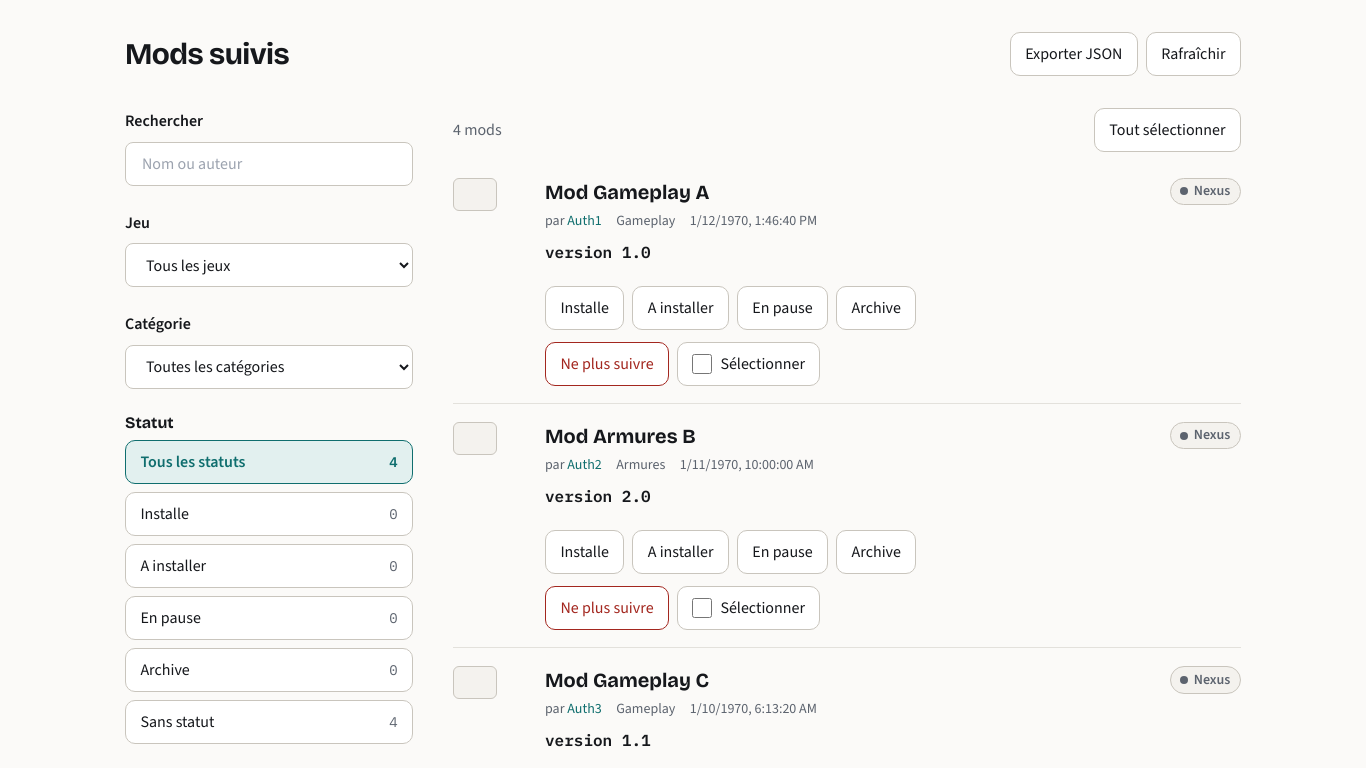
NexusModsPage — filtre par categorie › filtrer par 'Gameplay' n'affiche que les mods Gameplay
The width and height of the screenshot is (1366, 768).
Select "Gameplay" in the dropdown showing "Toutes les catégories" at (269, 367), box [125,345,413,389]
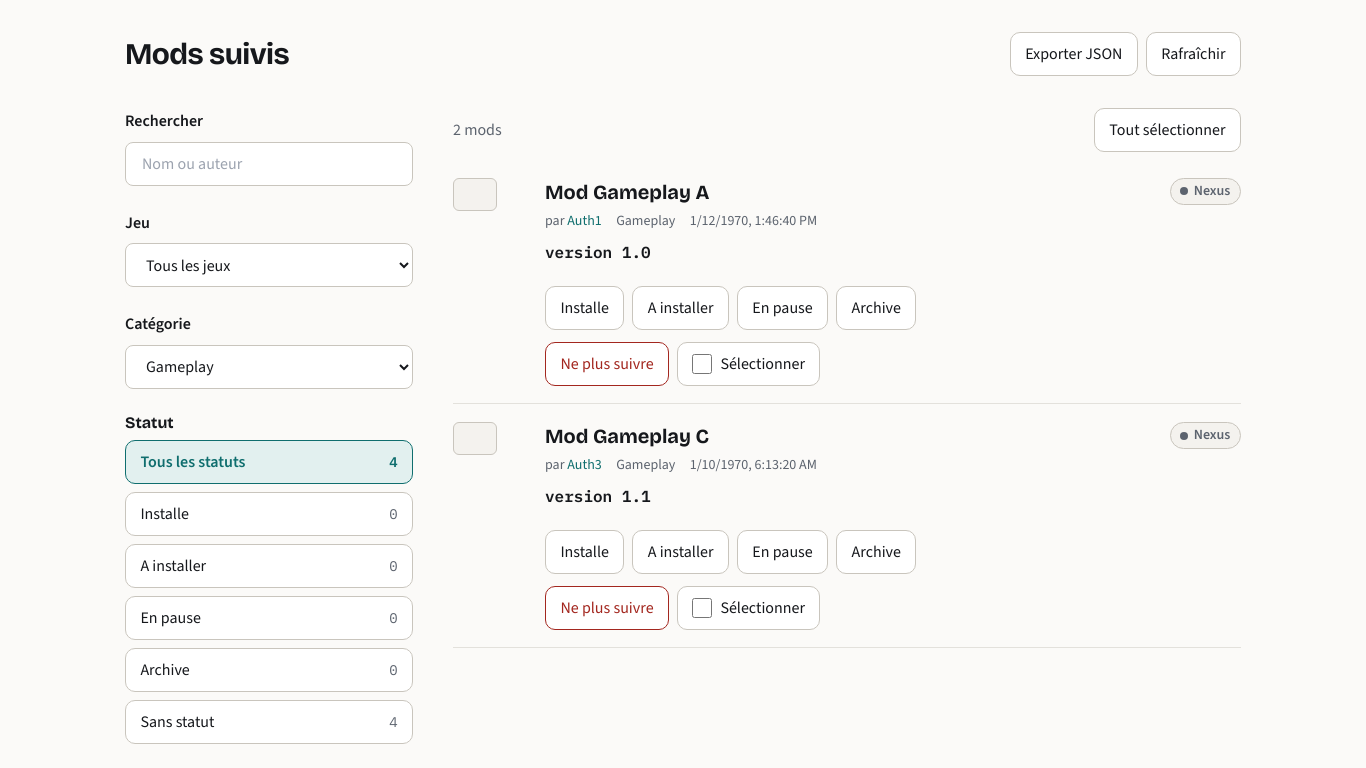
expect the heading "Mod Gameplay A" is shown: met, box [545,180,709,204]
expect the heading "Mod Armures B" is gone: met
